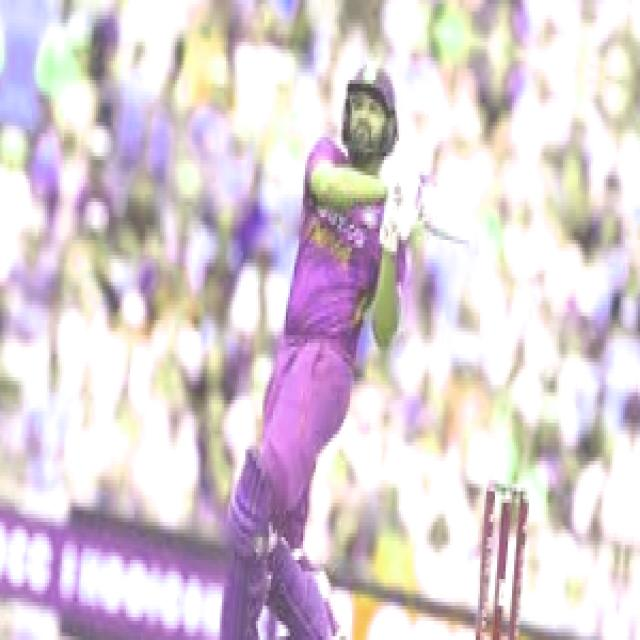toe: (459, 207, 475, 245)
